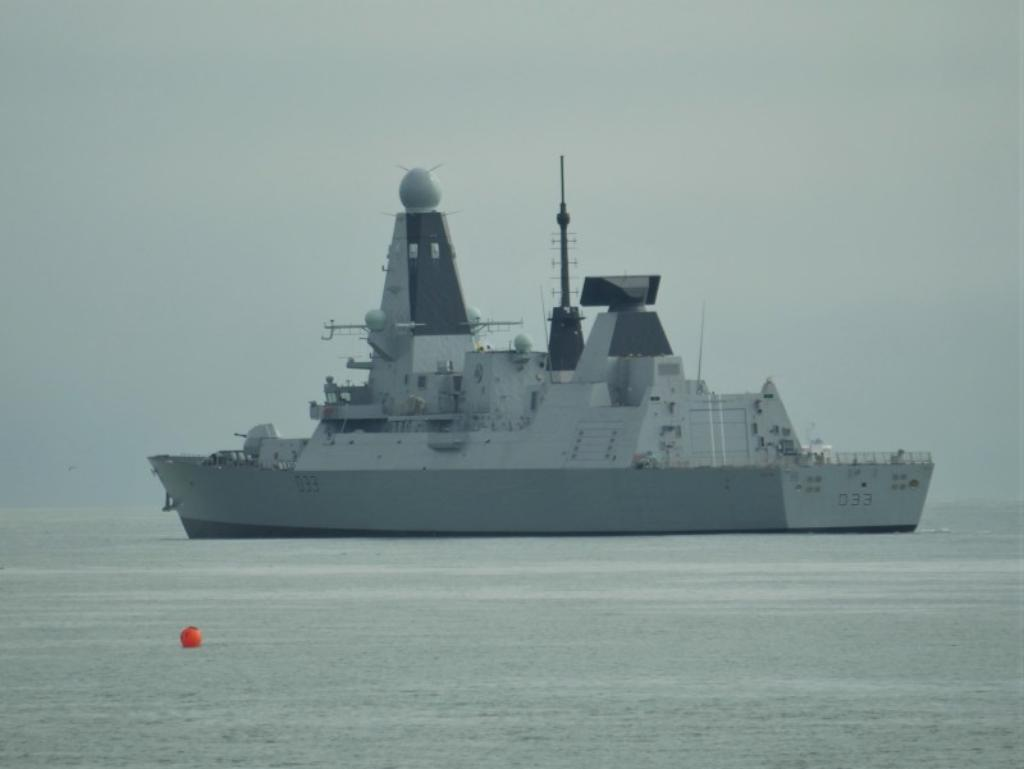Warship: (141, 143, 949, 537)
